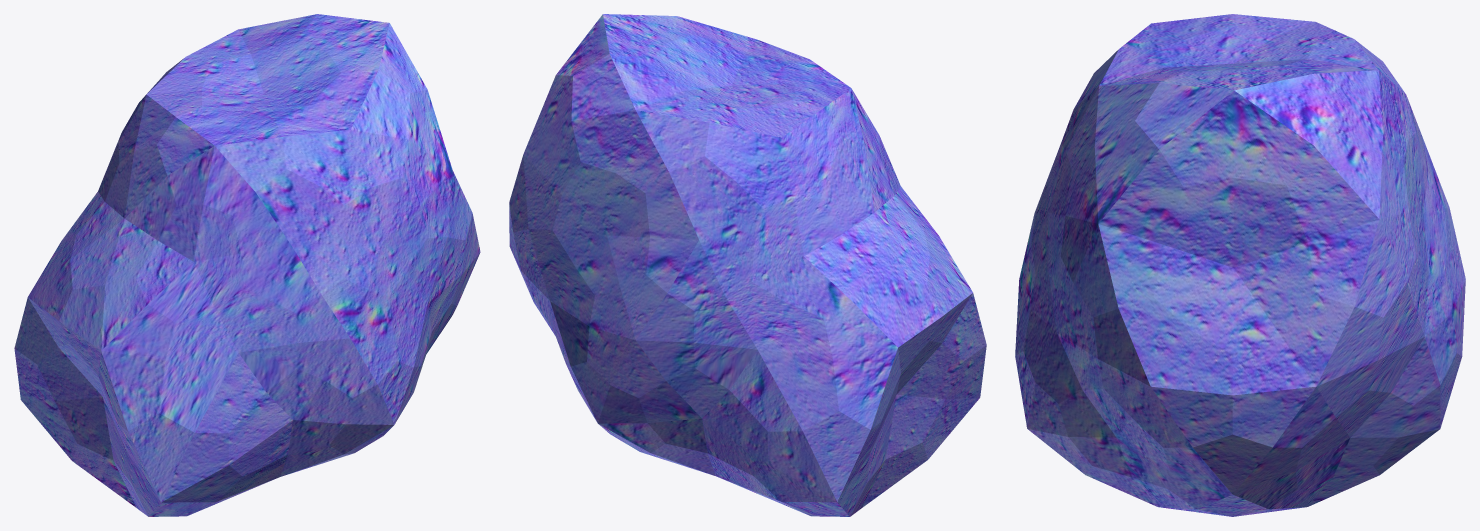
File: bigasteroid7_LOD3.fbx
3 views of the same model, side by side, from view 1: azimuth 30°, elevation 25°; view 2: azimuth 150°, elevation 25°; view 3: azimuth 270°, elevation 25° (orthographic). The views are drawn at different scales.
Visible parts, largest first — view 1: Icosphere; view 2: Icosphere; view 3: Icosphere.
Boxes of the visible parts, x1=… form: Icosphere: x1=14, y1=14, x2=480, y2=516; Icosphere: x1=509, y1=14, x2=986, y2=516; Icosphere: x1=1015, y1=14, x2=1465, y2=516.
Size of the model in its own units: 248 by 254 by 203.
